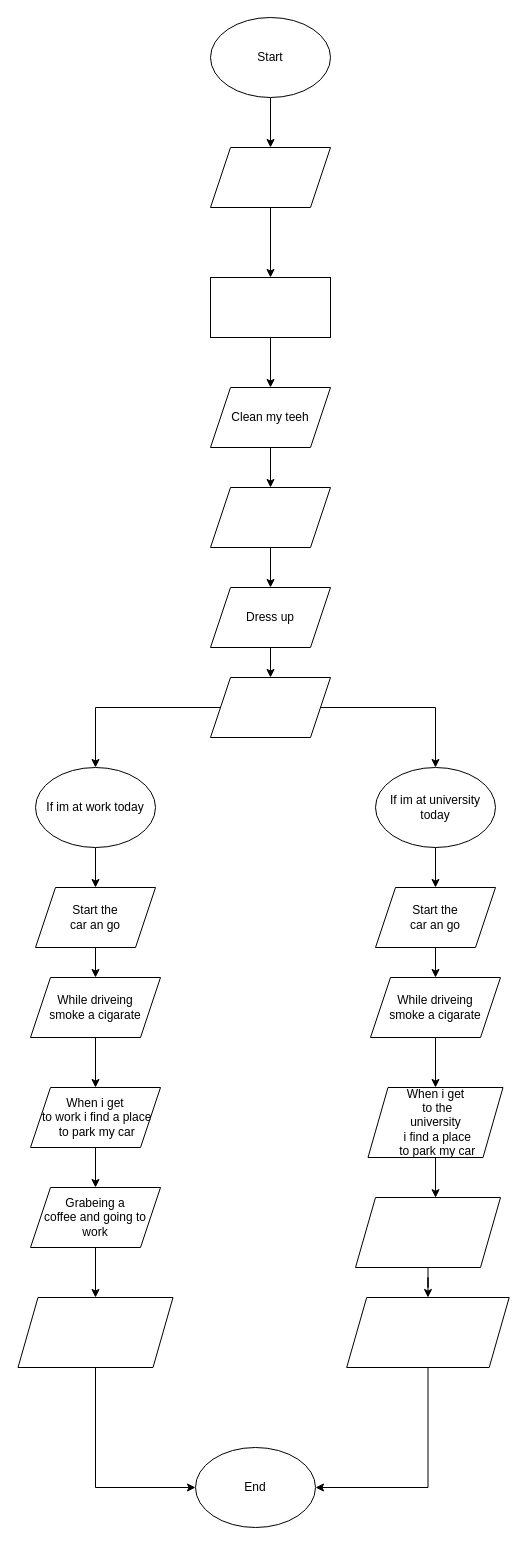
The diagram is 527 pixels wide and 1545 high, and some of its shapes have lost their labels. The shapes that lost their labels are listed below. From the top down, each one's centre as x and y in pixels, then its label:
At pixel 270 177: "Get up".
At pixel 270 307: "At 8:00".
At pixel 270 517: "Eat breakfast".
At pixel 270 707: "Do my hair".
At pixel 427 1232: "Grabeing a coffee and seeing some of my colleagues going to the leachers".
At pixel 95 1332: "Finishing work and immediately going home".
At pixel 427 1332: "Finishing leachers and immediately going to the fitnes and then home".
